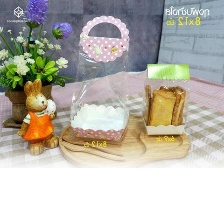snack: (63, 10, 139, 149), (136, 57, 195, 140)
